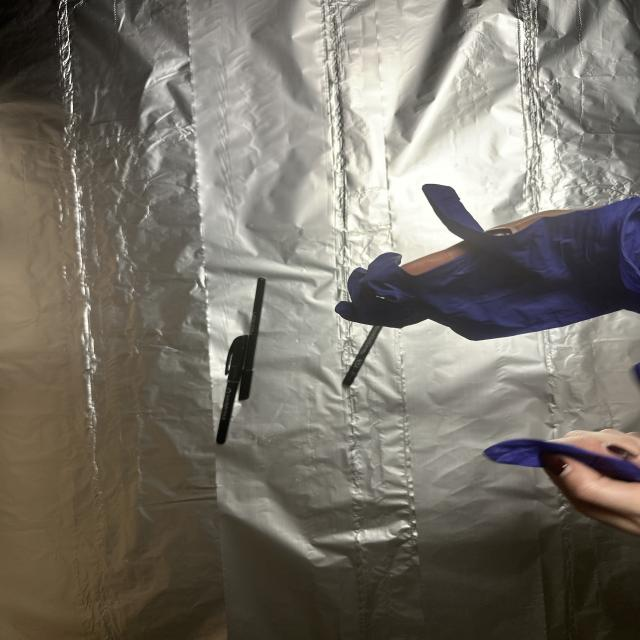glove_not_fitted: (331, 178, 640, 364), (477, 406, 640, 531)
